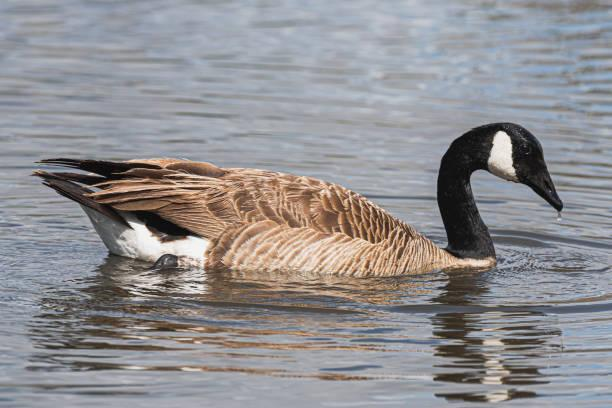Canadian-Goose: (40, 114, 565, 284)
